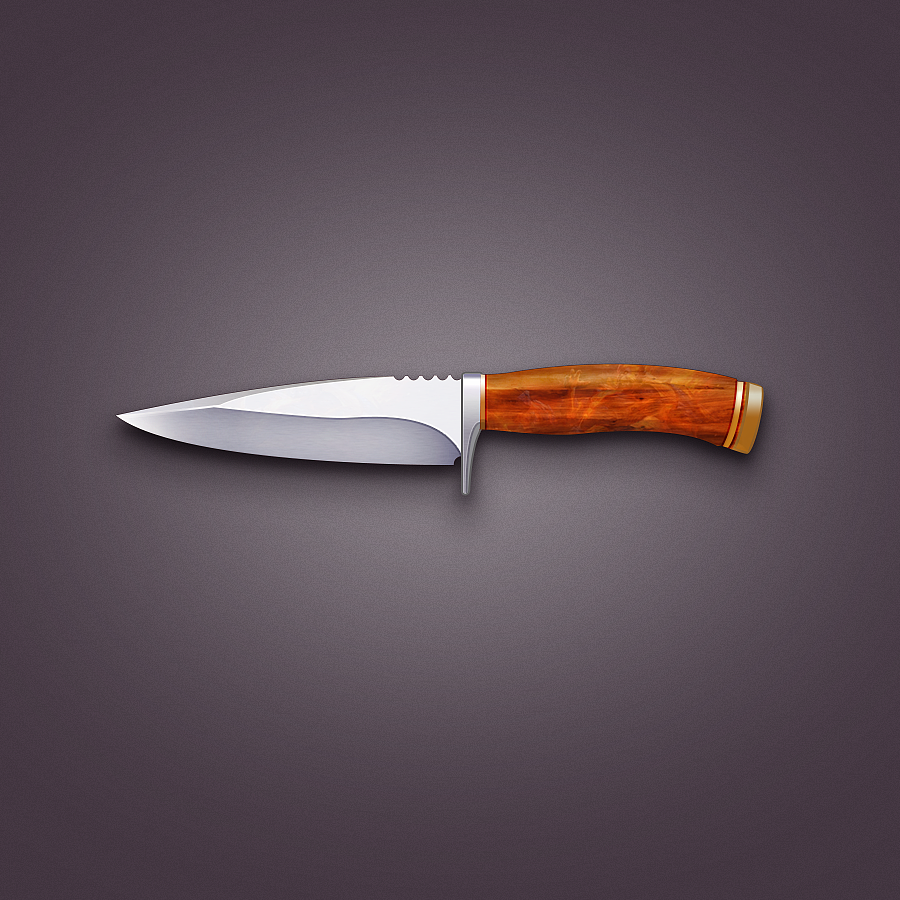knief: (93, 313, 790, 491)
